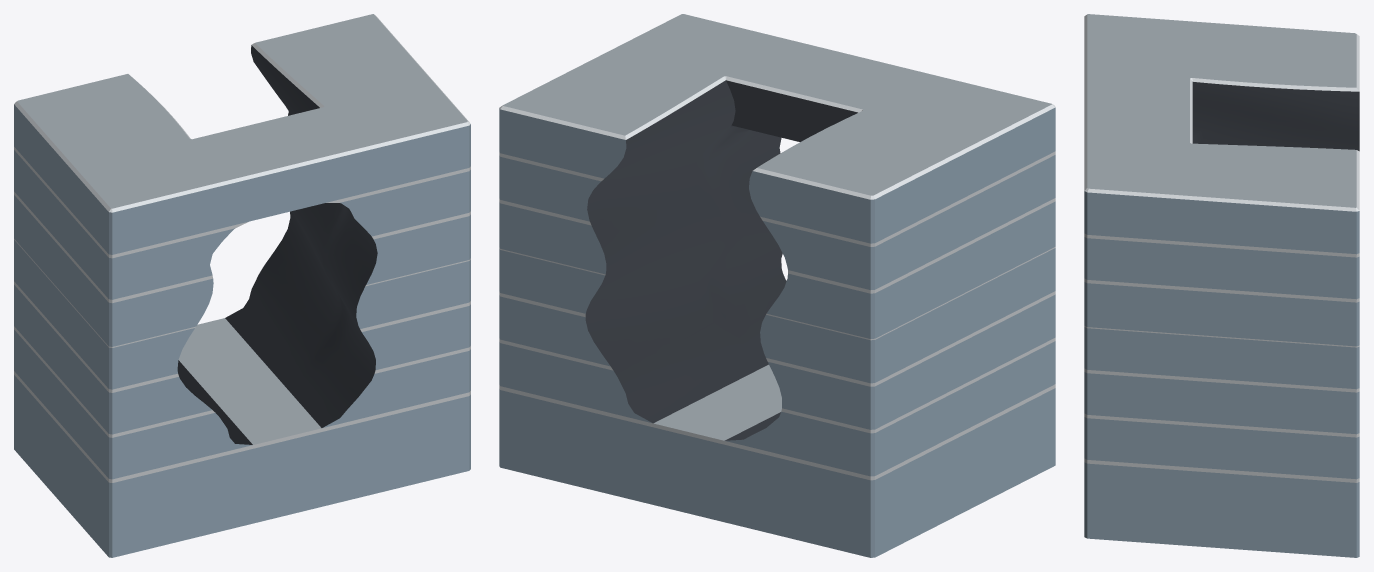
Rendered from dubai-opus.glb.
3 views of the same model, side by side, from view 1: azimuth 30°, elevation 25°; view 2: azimuth 150°, elevation 25°; view 3: azimuth 270°, elevation 25° (orthographic). The views are drawn at different scales.
Parts seen in each view (by area): view 1: The Opus; view 2: The Opus; view 3: The Opus.
Boxes of the visible parts, x1,y1,x2,y2 form: The Opus: [14, 14, 470, 557]; The Opus: [499, 14, 1055, 557]; The Opus: [1084, 14, 1359, 557].
Size of the model in its own units: 112 by 93 by 66.5.
